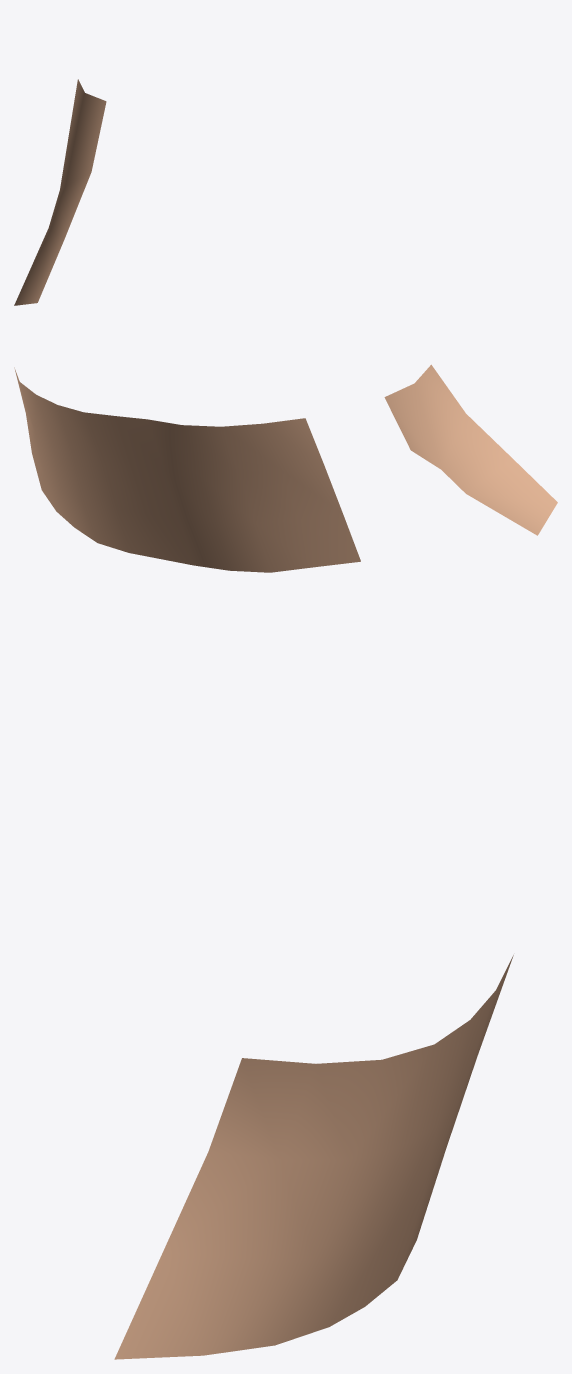
File: posterior-region-of-wrist-r.glb
The picture shows the model from 3 angles, top to bottom: view 1: azimuth 30°, elevation 25°; view 2: azimuth 150°, elevation 25°; view 3: azimuth 270°, elevation 25°; orthographic projection. The views are drawn at different scales.
Parts seen in each view (by area): view 1: Posterior region of wrist.r; view 2: Posterior region of wrist.r; view 3: Posterior region of wrist.r.
Boxes of the visible parts, left/top/right/bottom form: Posterior region of wrist.r: left=14, top=79, right=106, bottom=305; Posterior region of wrist.r: left=14, top=364, right=557, bottom=572; Posterior region of wrist.r: left=114, top=955, right=513, bottom=1359.
Size of the model in its own units: 0.0823 by 0.0325 by 0.0352.
